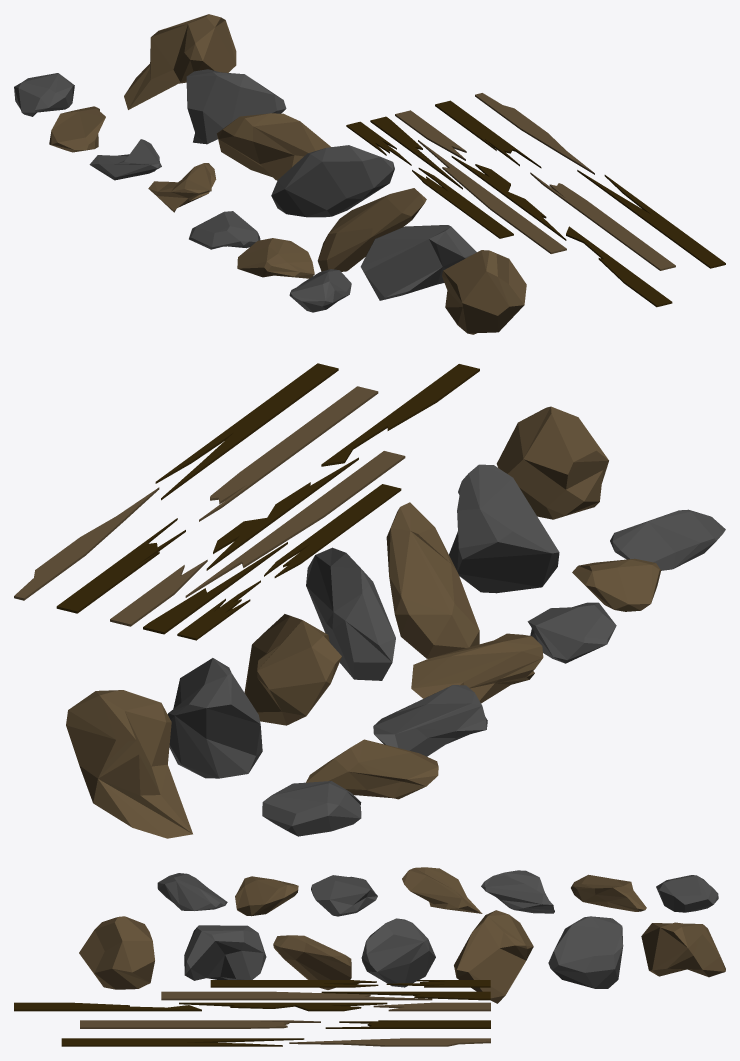
Rendered from Debris.fbx.
3 views of the same model, one above another, from view 1: azimuth 30°, elevation 25°; view 2: azimuth 150°, elevation 25°; view 3: azimuth 270°, elevation 25° (orthographic). The views are drawn at different scales.
Visible parts, largest first — view 1: Rock_Debris02, Rock_Debris04, Rock_Debris05, Rock_Debris06, Rock_Debris00, Rock_Debris03, Rock_Debris01, Flat_Rock_Debris04, Broken_Wood09, Broken_Wood02, Flat_Rock_Debris07, Broken_Wood06 (+13 smaller); view 2: Rock_Debris05, Rock_Debris04, Rock_Debris01, Rock_Debris06, Rock_Debris03, Rock_Debris02, Rock_Debris00, Flat_Rock_Debris02, Flat_Rock_Debris01, Flat_Rock_Debris00, Flat_Rock_Debris05, Flat_Rock_Debris07 (+13 smaller); view 3: Rock_Debris00, Rock_Debris03, Rock_Debris06, Rock_Debris04, Rock_Debris02, Rock_Debris05, Rock_Debris01, Broken_Wood02, Flat_Rock_Debris01, Flat_Rock_Debris02, Flat_Rock_Debris03, Broken_Wood09 (+13 smaller).
Boxes of the visible parts, x1,y1,x2,y2 form: Rock_Debris02: (271,145,394,217); Rock_Debris04: (360,225,476,300); Rock_Debris05: (124,14,236,109); Rock_Debris06: (442,250,526,334); Rock_Debris00: (217,113,331,180); Rock_Debris03: (186,69,286,144); Rock_Debris01: (317,188,426,271); Flat_Rock_Debris04: (237,238,314,278); Broken_Wood09: (530,172,675,270); Broken_Wood02: (418,140,566,253); Flat_Rock_Debris07: (14,73,74,116); Broken_Wood06: (577,170,725,268); Rock_Debris05: (66,690,192,838); Rock_Debris04: (449,464,559,593); Rock_Debris01: (386,502,479,658); Rock_Debris06: (496,406,608,519); Rock_Debris03: (168,658,262,778); Rock_Debris02: (306,547,395,680); Rock_Debris00: (244,614,341,725); Flat_Rock_Debris02: (411,633,543,703); Flat_Rock_Debris01: (373,685,487,756); Flat_Rock_Debris00: (306,739,438,799); Flat_Rock_Debris05: (610,509,725,570); Flat_Rock_Debris07: (262,781,361,836); Rock_Debris00: (454,910,533,1003); Rock_Debris03: (548,916,623,988); Rock_Debris06: (79,916,154,989); Rock_Debris04: (184,925,266,980); Rock_Debris02: (361,918,435,987); Rock_Debris05: (641,922,725,977); Rock_Debris01: (273,935,351,989); Broken_Wood02: (161,991,432,1000); Flat_Rock_Debris01: (481,870,554,913); Flat_Rock_Debris02: (402,867,482,913); Flat_Rock_Debris03: (311,875,377,916); Broken_Wood09: (80,1020,320,1028).
Size of the model in its own units: 306 by 77.71 by 542.
